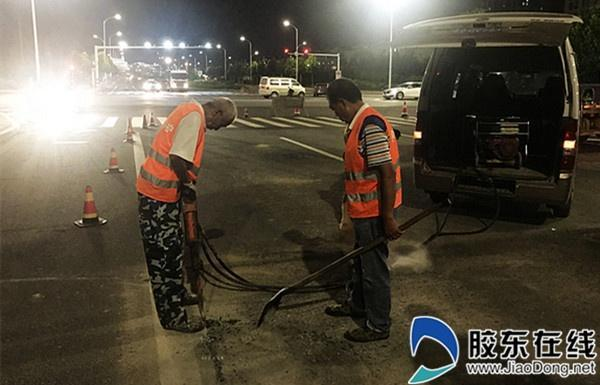person: (315, 77, 404, 344), (139, 93, 233, 343)
vest: (144, 96, 202, 206), (337, 123, 401, 213)
